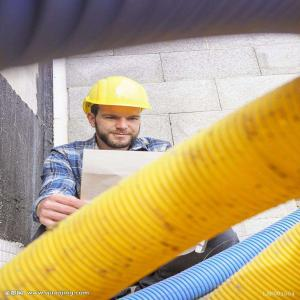yellow: (84, 79, 150, 150)
